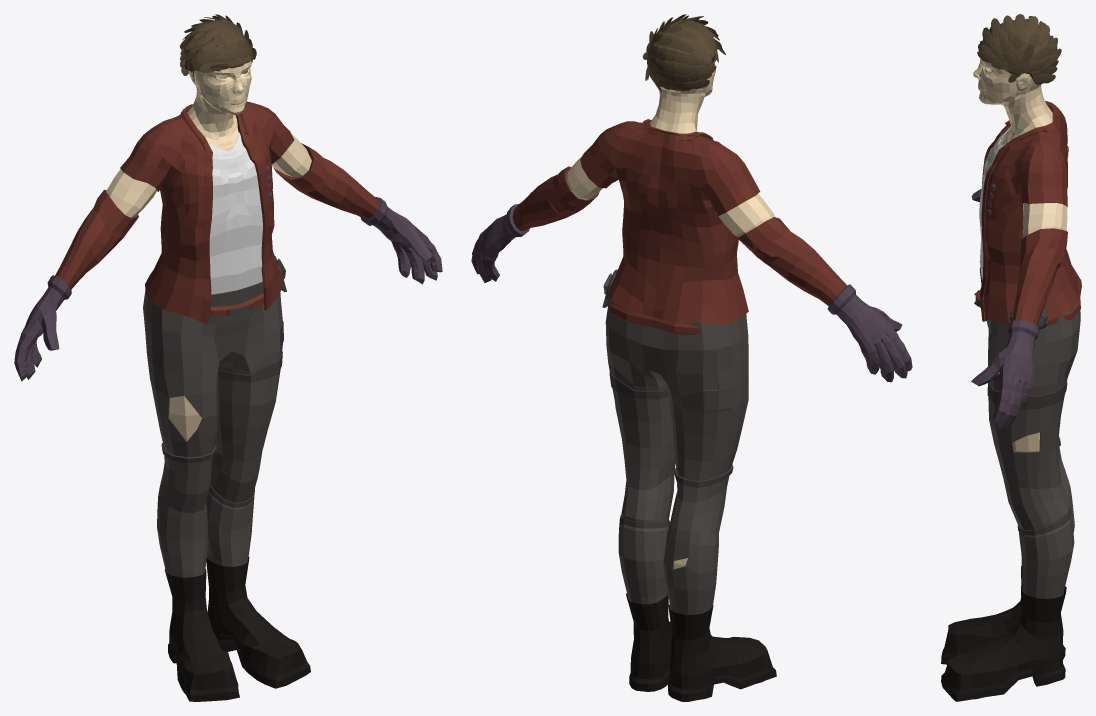
File: Bandit.fbx
The picture shows the model from 3 angles, left to right: view 1: azimuth 30°, elevation 25°; view 2: azimuth 150°, elevation 25°; view 3: azimuth 270°, elevation 25°; orthographic projection. The views are drawn at different scales.
Visible parts, largest first — view 1: Jeans, shirtCover, boots, sleeves, MaleBody, shirt, hairStrands, hair; view 2: Jeans, shirtCover, sleeves, boots, MaleBody, hairStrands, hair, Circle; view 3: Jeans, shirtCover, boots, sleeves, MaleBody, hairStrands, hair, shirt, Circle.
Part boxes in pixels (box(x1,y1,x2,y2)): Jeans: box(143, 281, 283, 577); shirtCover: box(120, 101, 294, 324); boots: box(164, 557, 310, 701); sleeves: box(14, 143, 442, 381); MaleBody: box(106, 60, 430, 441); shirt: box(208, 132, 262, 294); hairStrands: box(179, 14, 256, 76); hair: box(185, 20, 253, 70); Jeans: box(605, 299, 748, 615); shirtCover: box(580, 119, 760, 324); sleeves: box(471, 166, 912, 382); boots: box(626, 593, 776, 701); MaleBody: box(565, 63, 775, 569); hairStrands: box(642, 14, 725, 92); hair: box(647, 19, 717, 90); Circle: box(607, 299, 700, 334); Jeans: box(981, 279, 1080, 598); shirtCover: box(979, 101, 1079, 323); boots: box(941, 565, 1066, 701); sleeves: box(971, 146, 1068, 428); MaleBody: box(973, 58, 1067, 451); hairStrands: box(977, 14, 1061, 83); hair: box(986, 19, 1053, 84); shirt: box(979, 126, 1011, 279); Circle: box(974, 278, 1081, 325).
Bounding box in the file's own units: 554 × 810 × 157.
